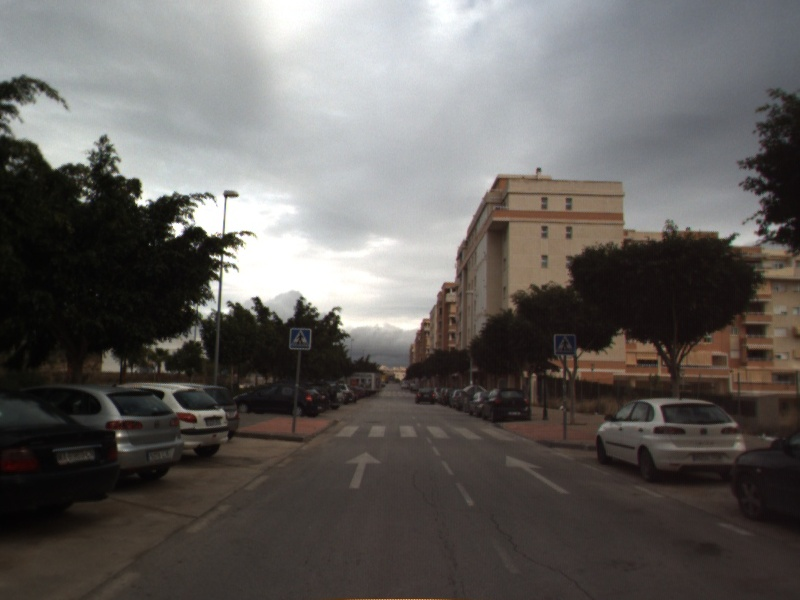STRAIGHT: (503, 454, 572, 496), (342, 449, 384, 490)
